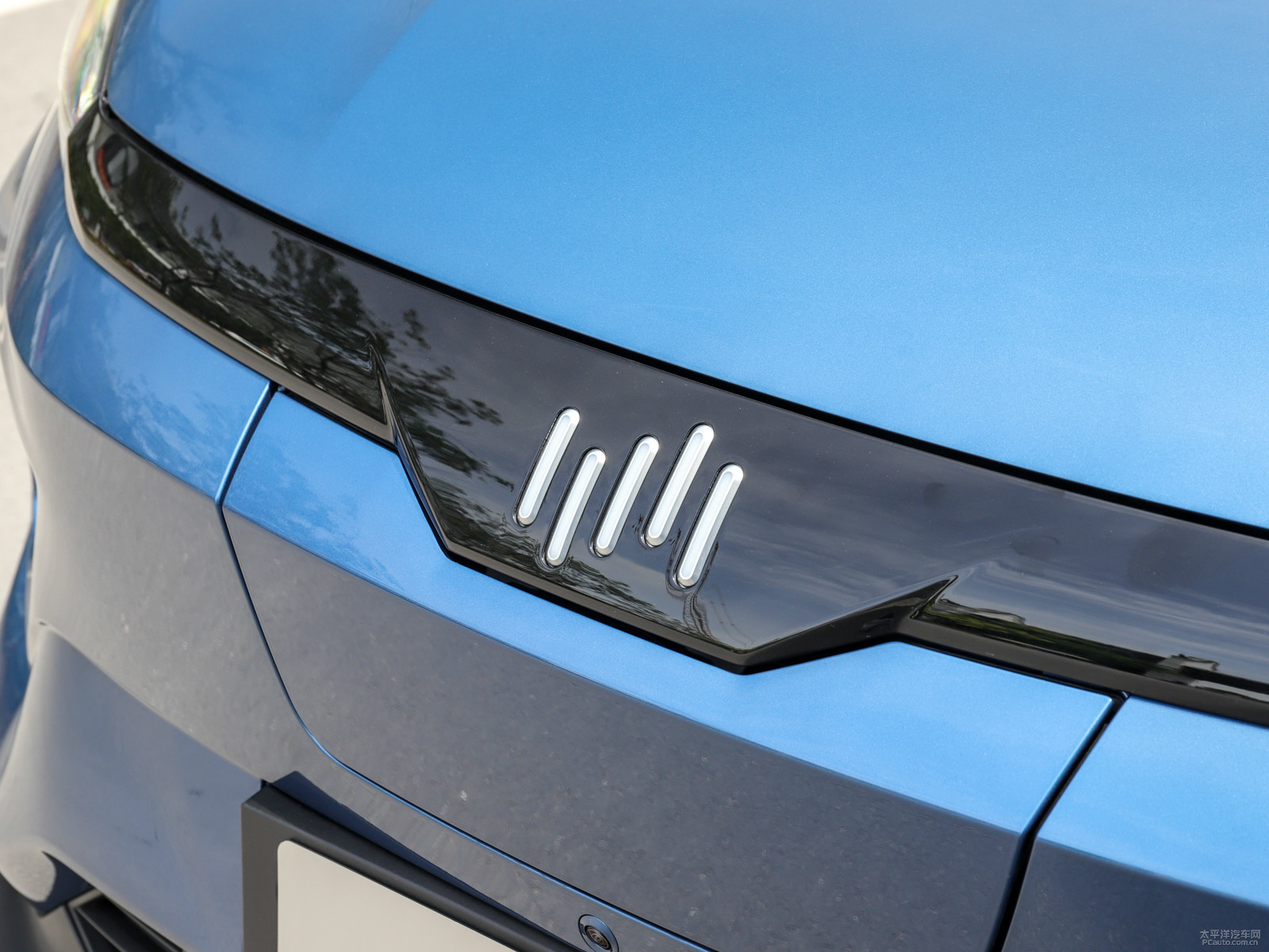WELTMEISTER: (517, 409, 743, 585)
